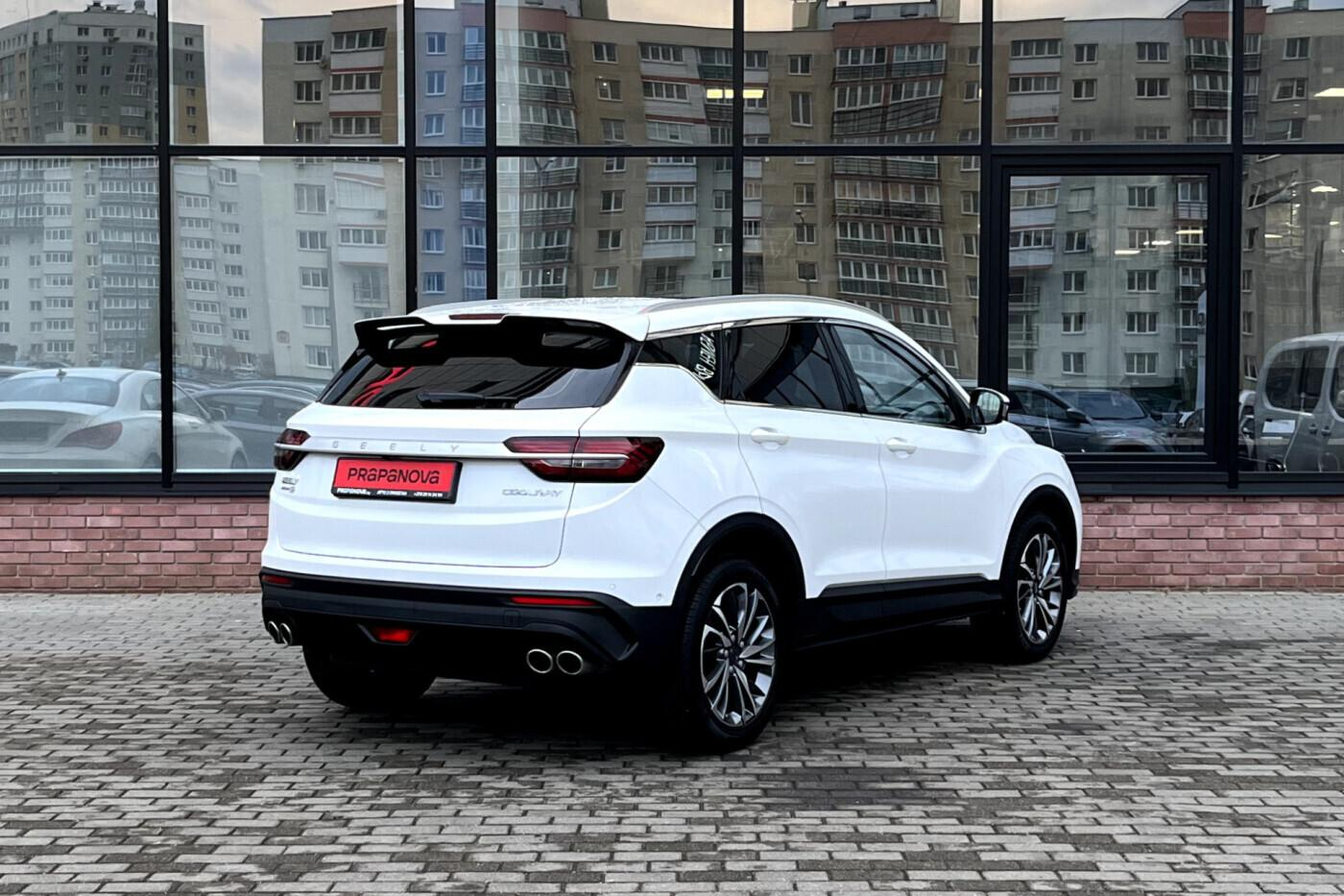Coolray_2019-2023: (251, 295, 1087, 750)
